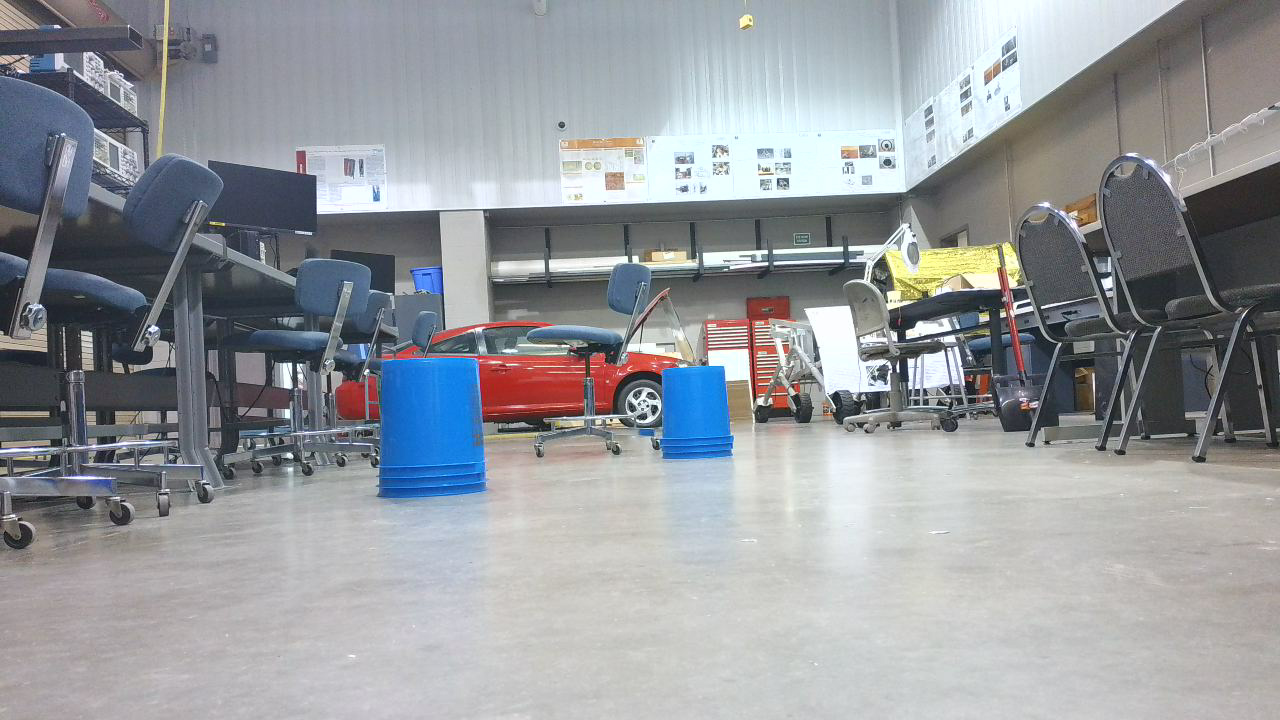blue_bucket: (380, 364, 494, 505), (664, 369, 741, 467)
